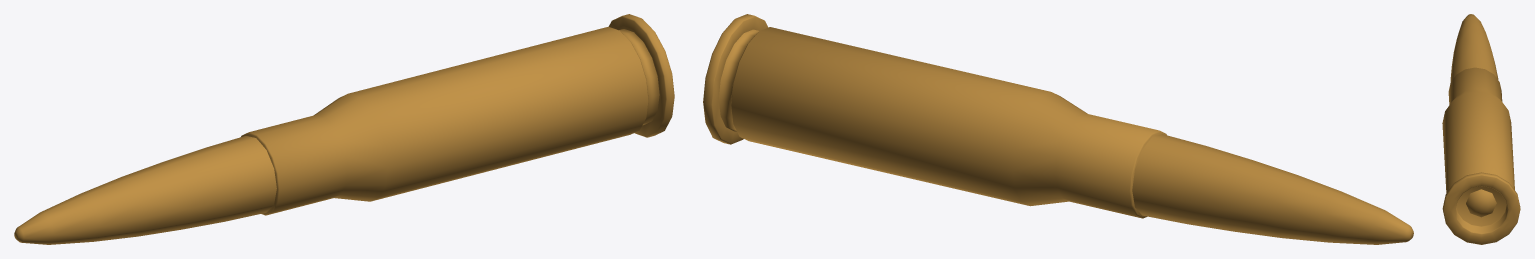
File: bullet.glb
3 renders of one model, left to right at view 1: azimuth 30°, elevation 25°; view 2: azimuth 150°, elevation 25°; view 3: azimuth 270°, elevation 25°, orthographic. The views are drawn at different scales.
Visible parts, largest first — view 1: Bullet_Q.002; view 2: Bullet_Q.002; view 3: Bullet_Q.002.
Boxes of the visible parts, x1=… form: Bullet_Q.002: x1=14, y1=14, x2=674, y2=244; Bullet_Q.002: x1=703, y1=14, x2=1413, y2=244; Bullet_Q.002: x1=1442, y1=14, x2=1520, y2=244.
Bounding box in the file's own units: 0.4634 × 0.0788 × 0.0792.
